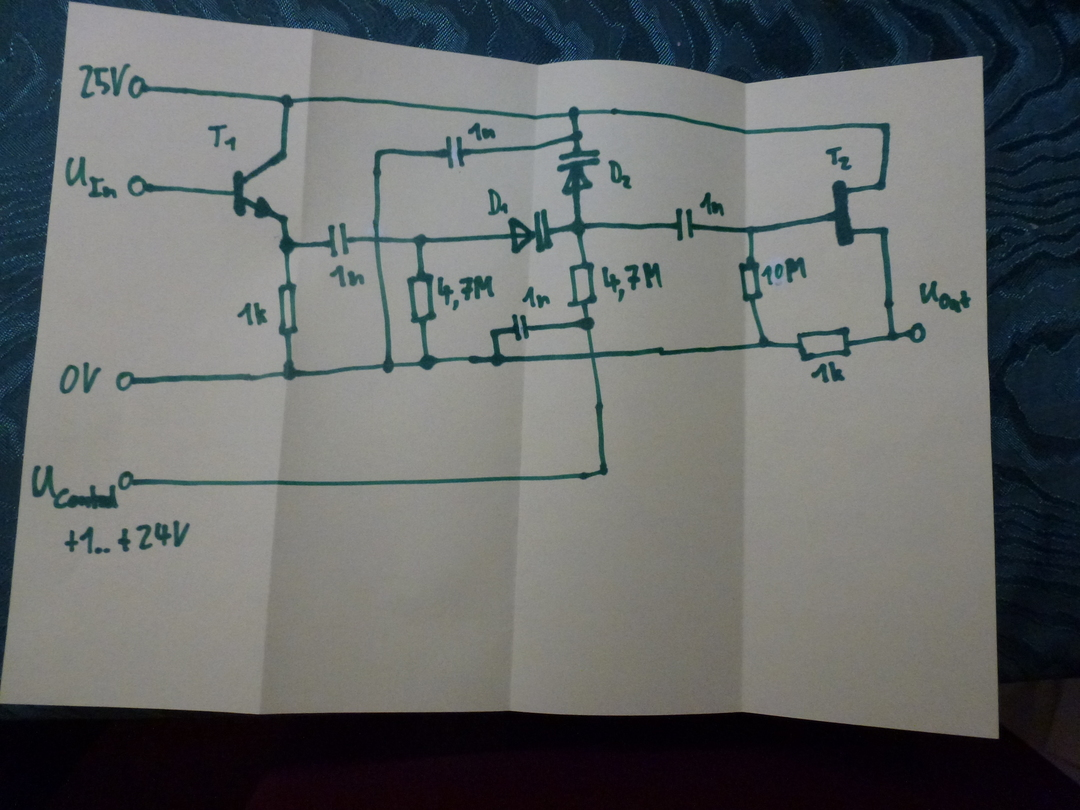capacitor.unpolarized: (673, 204, 699, 244), (326, 221, 353, 258), (443, 133, 468, 170), (510, 312, 532, 342)
crossover: (369, 232, 386, 247), (584, 348, 602, 362)
diode: (508, 207, 556, 255), (556, 147, 601, 197)
junction: (279, 359, 300, 383), (417, 353, 439, 372), (567, 218, 587, 237), (278, 235, 297, 255), (579, 314, 597, 333), (279, 92, 296, 110), (411, 232, 428, 248), (490, 351, 506, 368), (755, 335, 772, 351), (381, 357, 396, 375), (596, 462, 610, 479), (566, 104, 580, 120), (569, 129, 585, 143), (886, 328, 900, 344), (371, 146, 386, 160), (878, 119, 893, 133), (488, 326, 502, 340), (744, 223, 758, 237)
resistor: (796, 325, 852, 362), (405, 272, 438, 325), (567, 260, 598, 308), (276, 281, 299, 336), (738, 260, 764, 304)
terminal: (126, 173, 149, 199), (127, 74, 149, 100), (114, 370, 137, 394), (907, 320, 928, 345), (117, 468, 138, 492)
text: (62, 519, 192, 556), (30, 464, 119, 511), (63, 154, 119, 201), (600, 262, 663, 302), (436, 274, 496, 311), (917, 279, 972, 315), (77, 62, 130, 99), (57, 360, 103, 395), (761, 256, 808, 287), (206, 120, 239, 152), (329, 263, 367, 289), (606, 158, 634, 191), (810, 360, 846, 384), (236, 301, 269, 327), (699, 190, 727, 218), (485, 187, 511, 217), (520, 285, 551, 309), (825, 145, 853, 171), (467, 120, 497, 142)
transistor: (232, 151, 291, 224), (830, 178, 891, 247)
